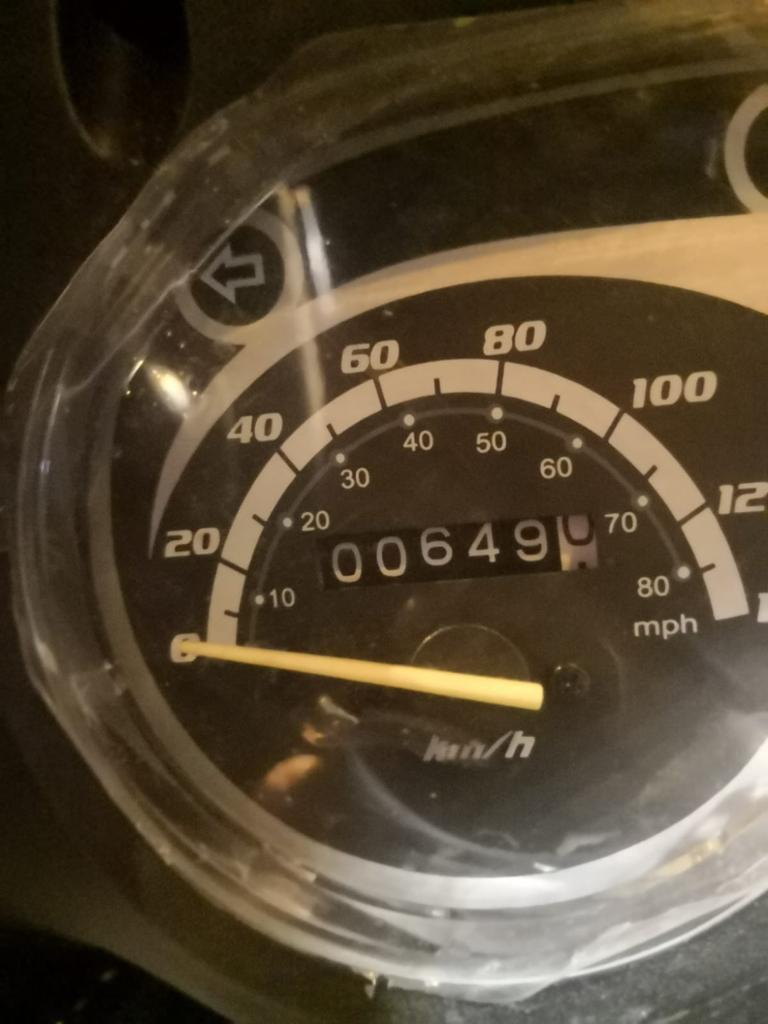0: (561, 505, 597, 546), (329, 540, 363, 583), (374, 535, 408, 578), (315, 509, 332, 529)
4: (467, 520, 501, 564)
6: (418, 524, 454, 567)
9: (513, 517, 548, 562)
odometer: (313, 506, 605, 596)
